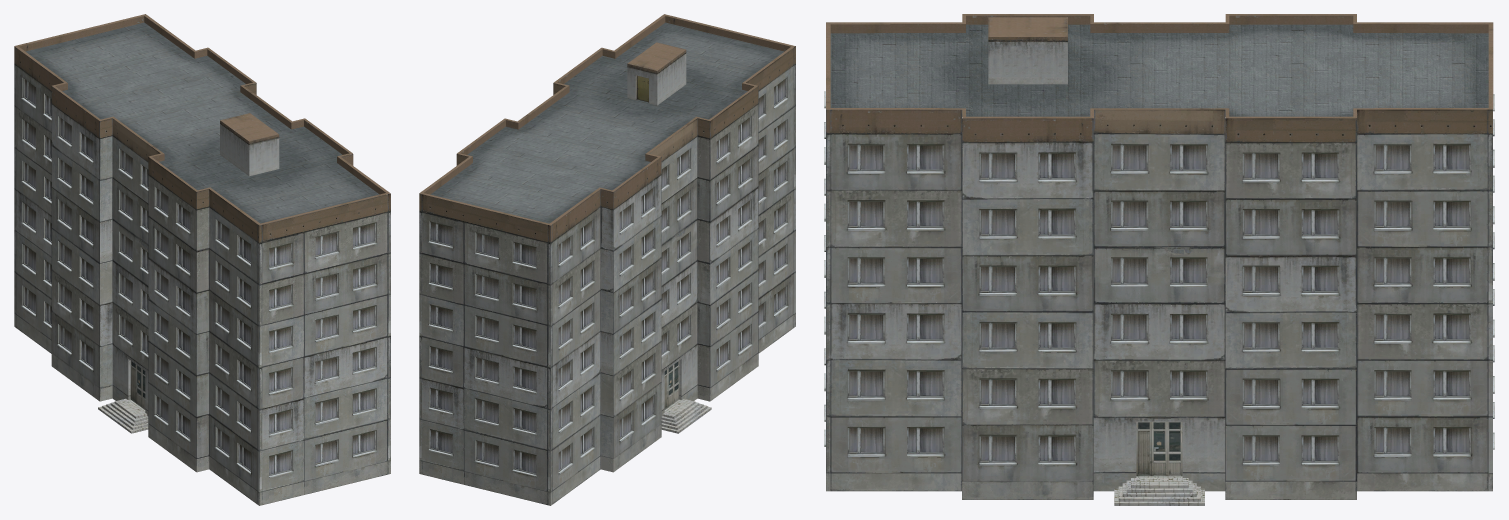
3 views of the same model, side by side, from view 1: azimuth 30°, elevation 25°; view 2: azimuth 150°, elevation 25°; view 3: azimuth 270°, elevation 25° (orthographic). The views are drawn at different scales.
Parts seen in each view (by area): view 1: apt; view 2: apt; view 3: apt.
Boxes of the visible parts, bbox=[...] form: apt: bbox=[14, 14, 390, 505]; apt: bbox=[419, 14, 795, 505]; apt: bbox=[824, 14, 1494, 505].
Size of the model in its own units: 68.32 by 115 by 166.
1 material, 1 textured.
